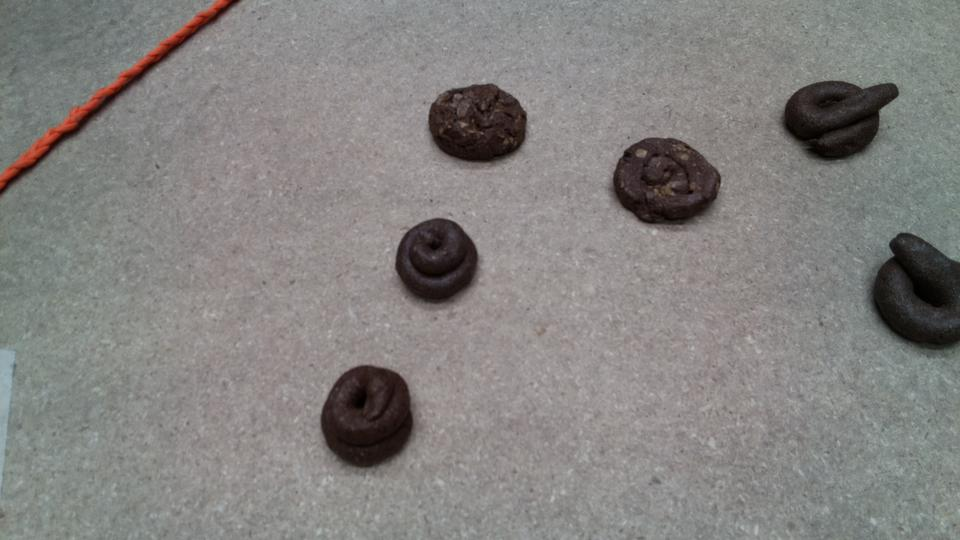poop: (606, 133, 736, 228), (318, 359, 424, 468), (869, 226, 960, 352), (780, 75, 899, 165), (422, 80, 532, 166), (389, 216, 485, 306)
rope: (3, 100, 113, 201), (122, 1, 254, 65), (67, 53, 185, 120)
